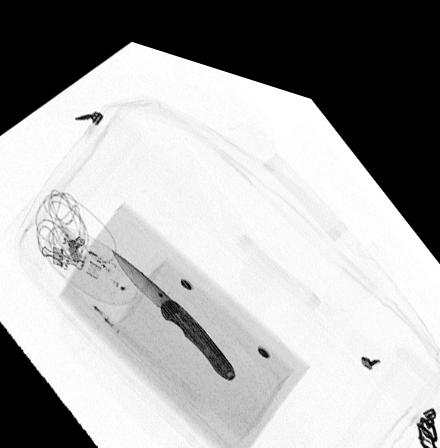Knife: (105, 239, 237, 368)
